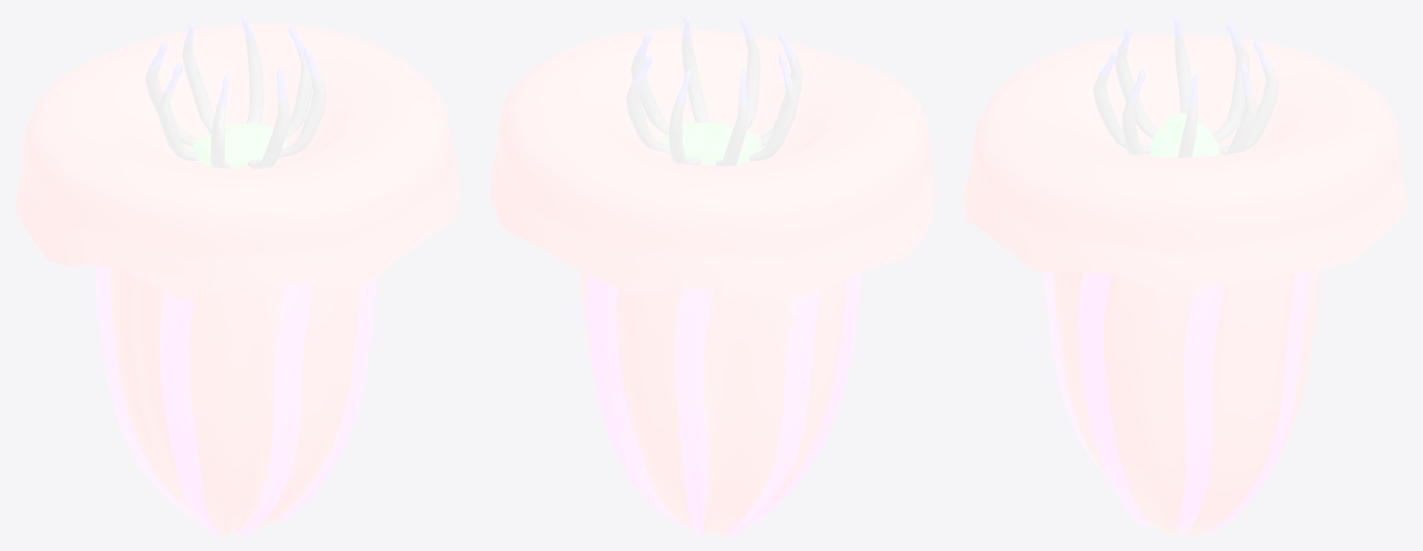
Rendered from creature2.glb.
The picture shows the model from 3 angles, left to right: view 1: azimuth 30°, elevation 25°; view 2: azimuth 150°, elevation 25°; view 3: azimuth 270°, elevation 25°; orthographic projection.
Visible parts, largest first — view 1: Cube.003; view 2: Cube.003; view 3: Cube.003.
Boxes of the visible parts, x1,y1,x2,y2 form: Cube.003: (14, 14, 460, 536); Cube.003: (489, 14, 935, 536); Cube.003: (964, 14, 1408, 536).
Bounding box in the file's own units: 4.04 × 4.88 × 4.02.
